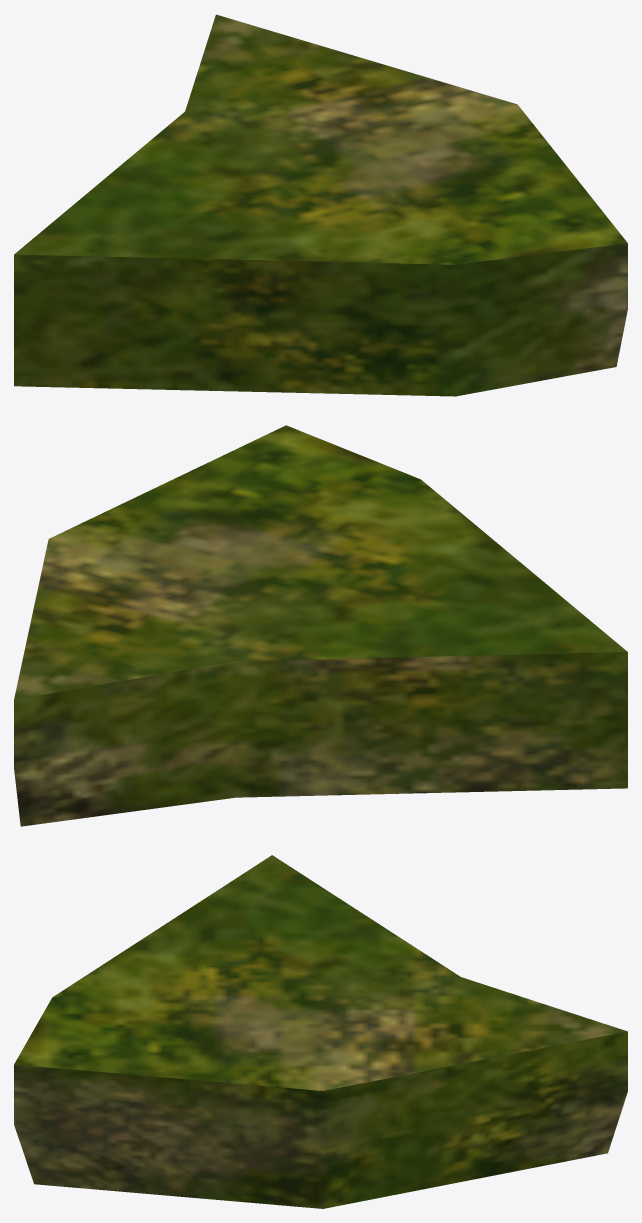
File: ANIMATEDINSTANCES_ROOF_FALL_03__AI.fbx
3 views of the same model, one above another, from view 1: azimuth 30°, elevation 25°; view 2: azimuth 150°, elevation 25°; view 3: azimuth 270°, elevation 25° (orthographic). The views are drawn at different scales.
Visible parts, largest first — view 1: ANIMATEDINSTANCES_ROOF_FALL_03__AI; view 2: ANIMATEDINSTANCES_ROOF_FALL_03__AI; view 3: ANIMATEDINSTANCES_ROOF_FALL_03__AI.
Boxes of the visible parts, left/top/right/bottom form: ANIMATEDINSTANCES_ROOF_FALL_03__AI: left=14, top=14, right=627, bottom=396; ANIMATEDINSTANCES_ROOF_FALL_03__AI: left=14, top=425, right=627, bottom=826; ANIMATEDINSTANCES_ROOF_FALL_03__AI: left=14, top=855, right=627, bottom=1208.
Size of the model in its own units: 10560 by 2500 by 11610.
Materials: 1 (1 with a texture image).
